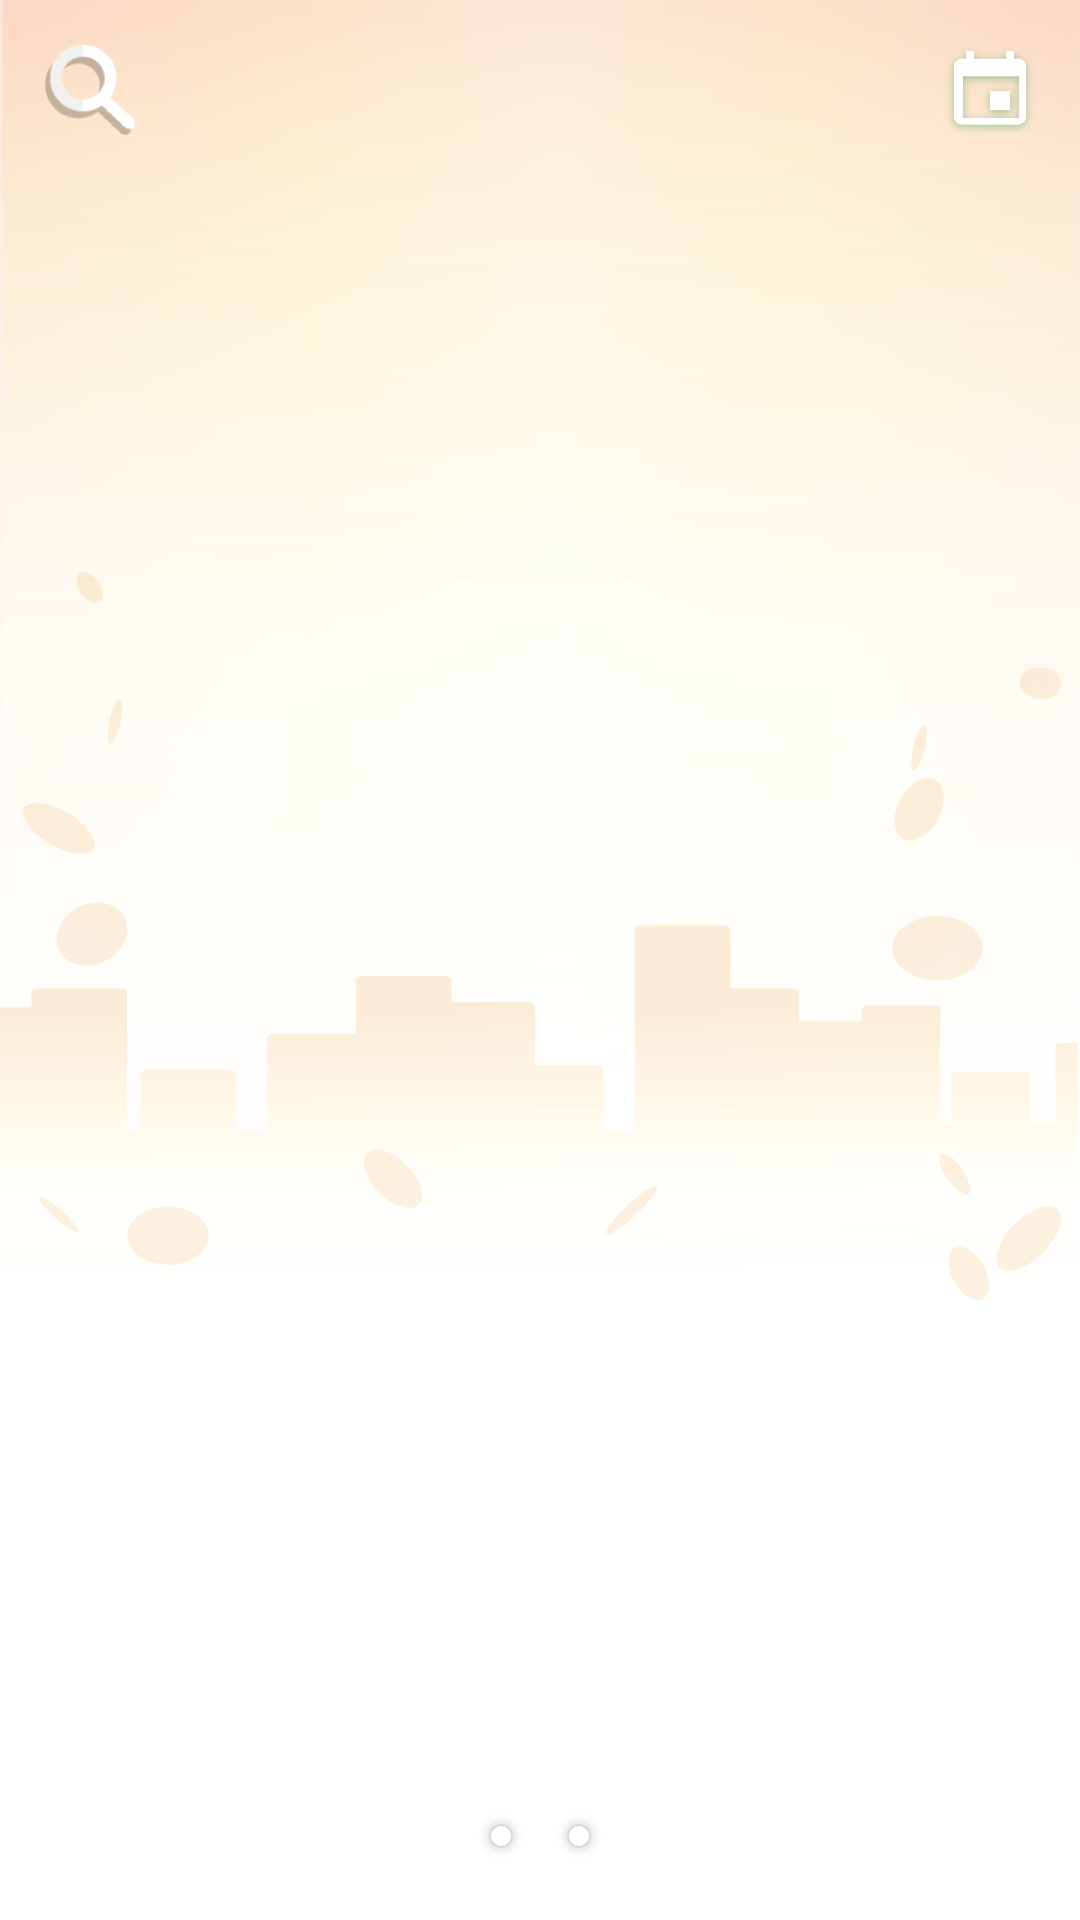

Icons on this 1080px×1920px Android screen, each with its box as bbox(x1, y1, x2, y2):
dot: bbox(489, 1824, 513, 1848), bbox(567, 1824, 591, 1848)
search: bbox(45, 45, 135, 135)
